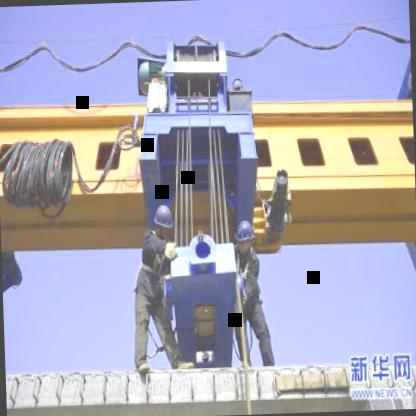helmet: (151, 202, 179, 244), (231, 219, 256, 252)
